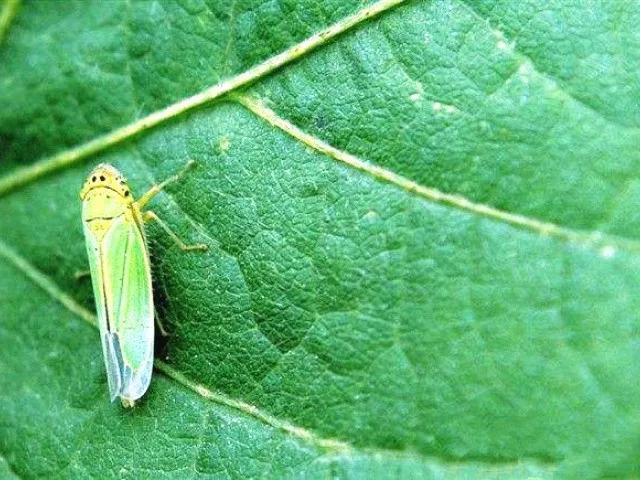Cicadellidae: (80, 161, 207, 411)
